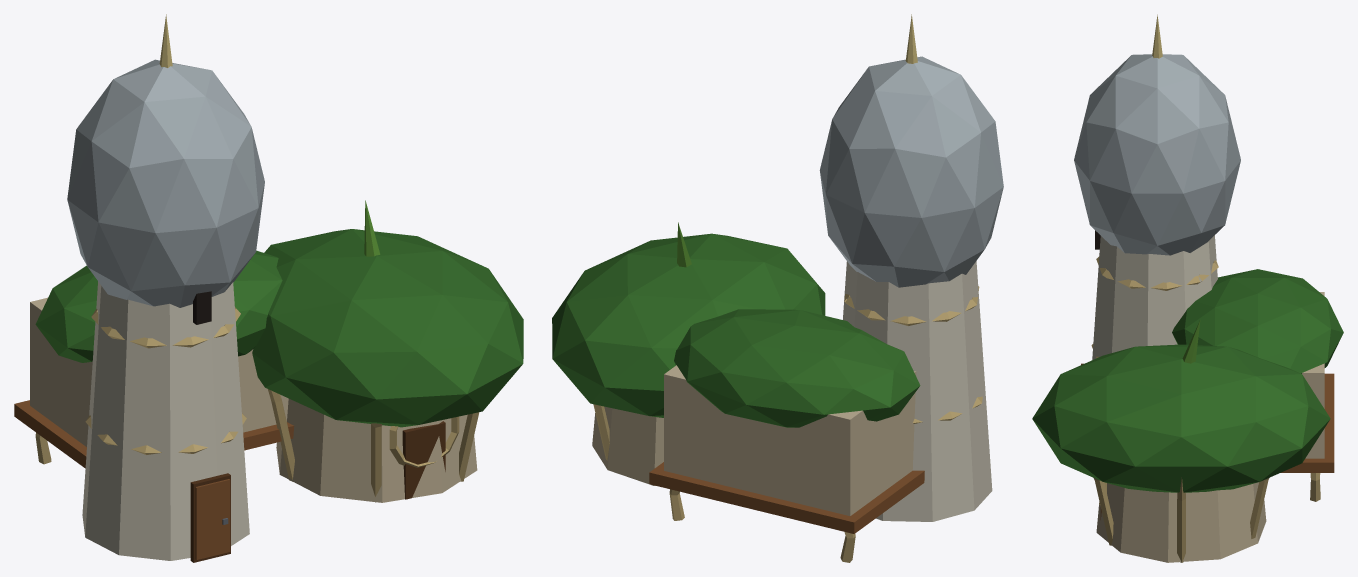
File: elf_compound.glb
3 views of the same model, side by side, from view 1: azimuth 30°, elevation 25°; view 2: azimuth 150°, elevation 25°; view 3: azimuth 270°, elevation 25° (orthographic). The views are drawn at different scales.
Visible parts, largest first — view 1: elf_compound; view 2: elf_compound; view 3: elf_compound.
Boxes of the visible parts, <box> form: elf_compound: <box>14,14,523,562</box>; elf_compound: <box>552,14,1003,562</box>; elf_compound: <box>1032,14,1343,562</box>.
Bounding box in the file's own units: 1.88 × 2.15 × 1.44.
